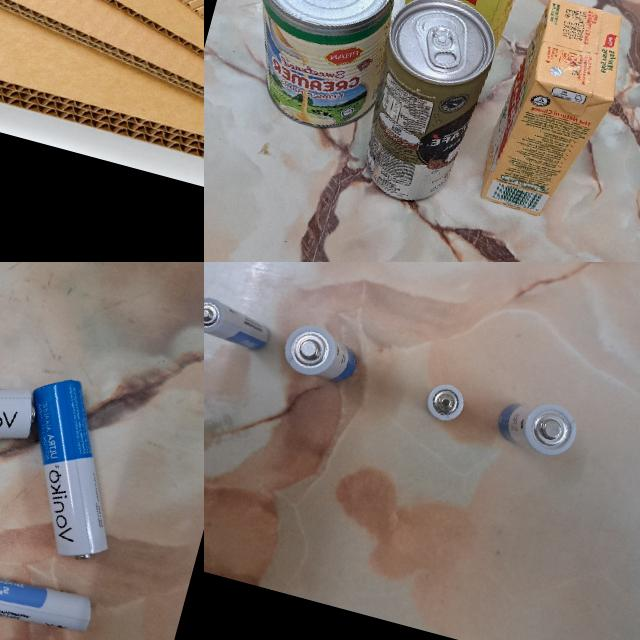aba de lata: (418, 22, 468, 72)
bateria: (0, 368, 148, 568), (0, 556, 97, 640), (492, 392, 581, 462), (278, 320, 362, 388), (0, 345, 42, 480), (204, 292, 274, 352), (423, 380, 467, 424)
caixinha: (474, 0, 635, 227), (393, 0, 541, 53)
lata: (345, 0, 506, 214), (224, 0, 417, 141)
papelão: (0, 0, 204, 218)
